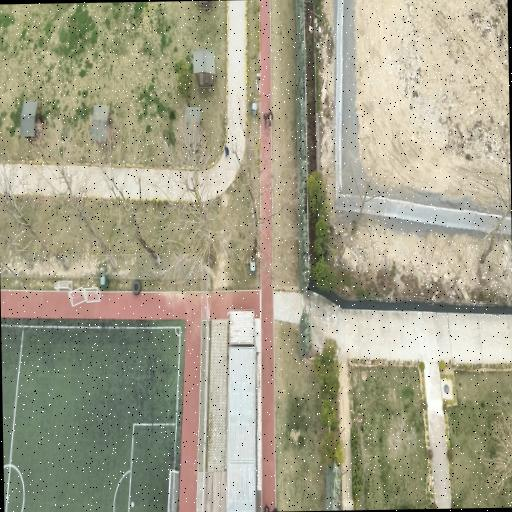person: (268, 112, 272, 127), (263, 114, 267, 128), (224, 146, 228, 157), (262, 504, 268, 511), (272, 508, 276, 511)
